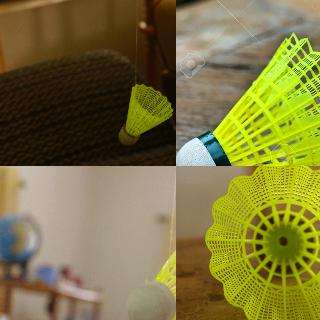shuttlecock: (176, 32, 319, 165), (205, 166, 319, 319), (126, 233, 175, 319), (118, 84, 172, 146)
